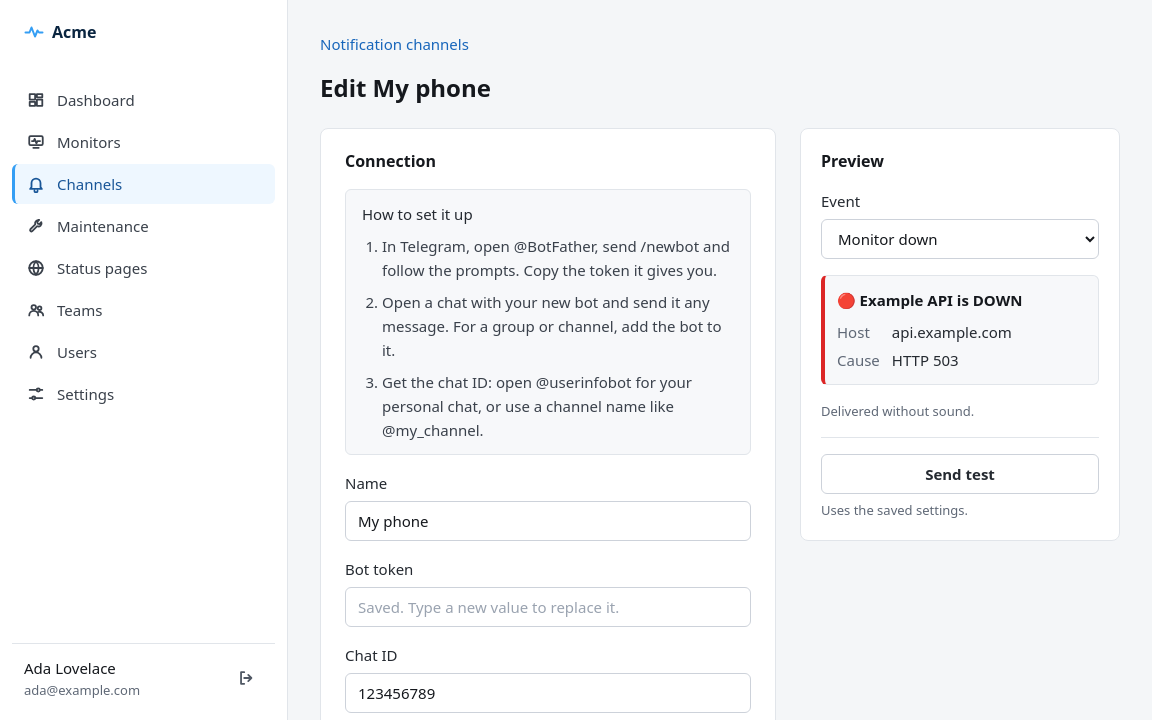
Test case: NotificationChannelPage › edits a channel without resending the saved secret and keeps its preferences
This screenshot has width=1152, height=720.
Expected: the heading "Edit My phone" is shown, x1=320 y1=71 x2=491 y2=104
Replace the text in the field labelled "Chat ID" with "@status_channel" at (548, 693), box x1=345 y1=673 x2=751 y2=713
(page scrolled)
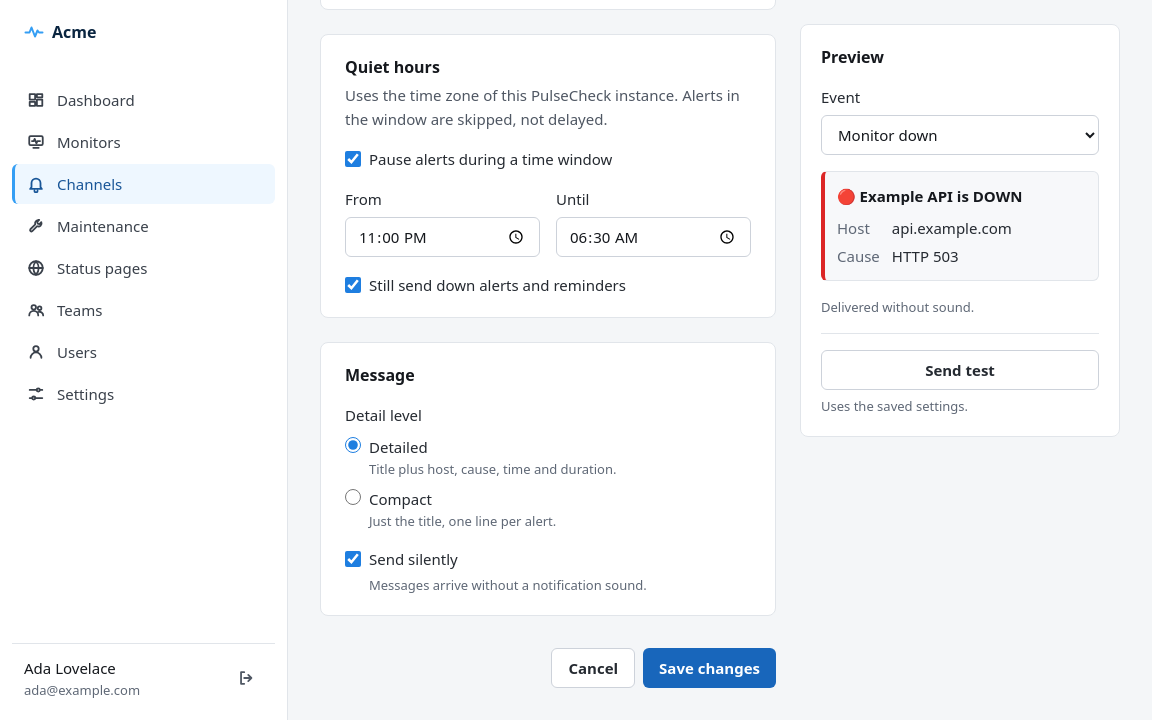
Click the button "Save changes" at (710, 668), box x1=643 y1=648 x2=776 y2=688
(page scrolled)
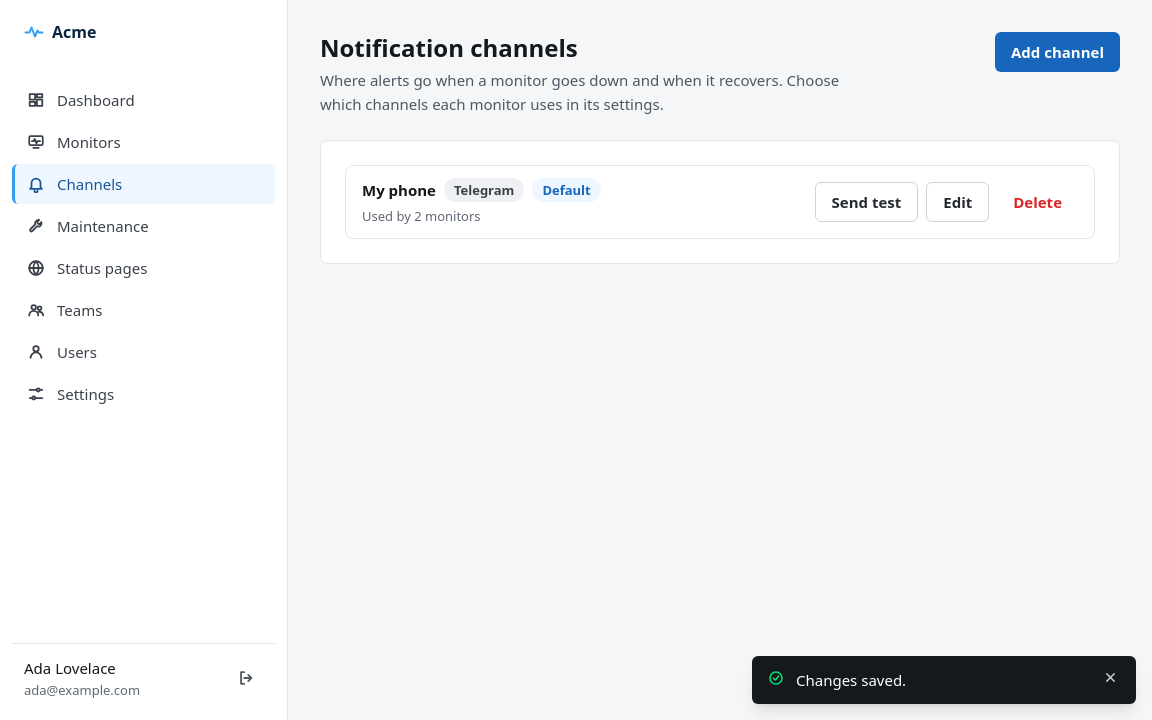
Now the text "Changes saved." is shown, box x1=796 y1=670 x2=906 y2=690
